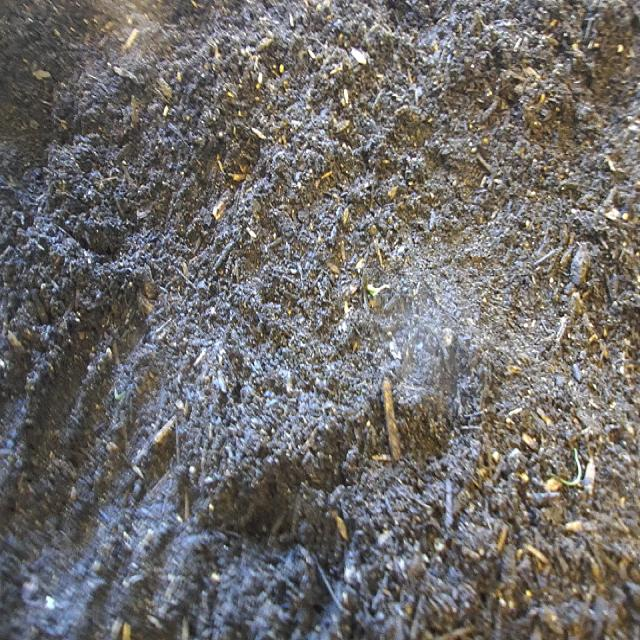Unhealthy: (365, 277, 393, 305)
